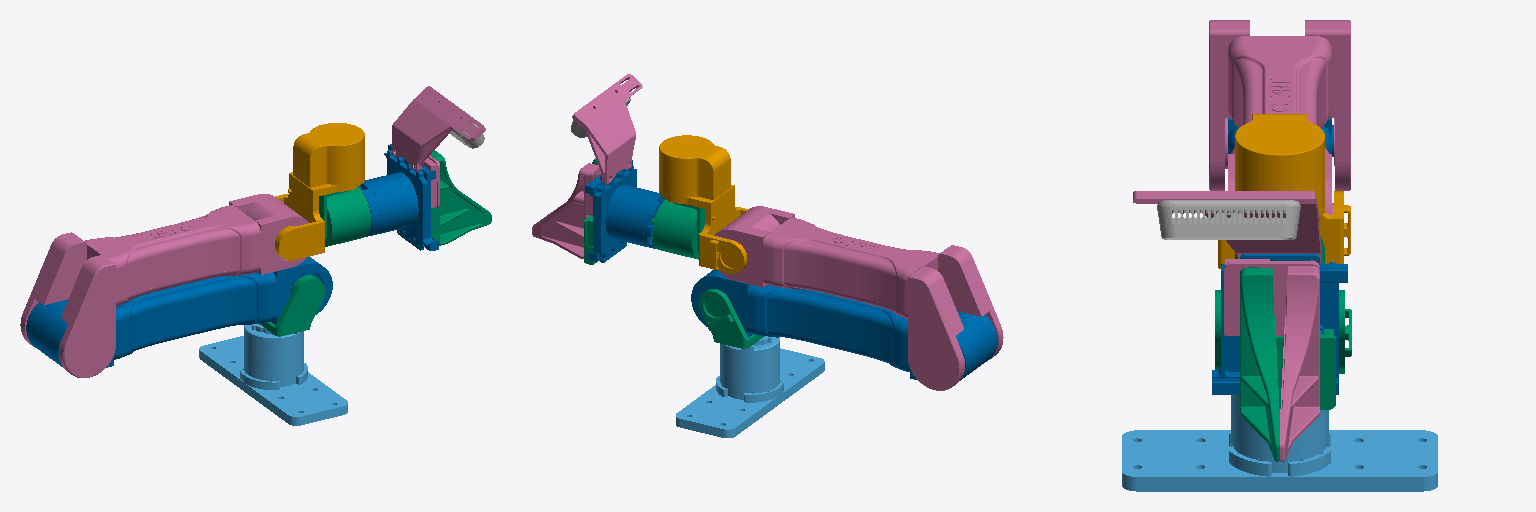
--- Facts derived from the render (not from the file) ---
Views: 3 orthographic renders of the robot side by side, from view 1: azimuth 30°, elevation 25°; view 2: azimuth 150°, elevation 25°; view 3: azimuth 270°, elevation 25°.
Robot: yam — 24 links, 23 joints (6 revolute, 2 prismatic, 15 fixed); root link world; default pose: every joint at zero.
Visible links, largest first — view 1: link_3, link_2, arm, link_4, link_6, camera_support, link_right_finger, link_5, link_1; view 2: link_3, link_2, arm, link_4, link_6, camera_support, link_left_finger, link_5, link_1; view 3: arm, link_3, link_left_finger, link_4, link_right_finger, d435, camera_support, link_6, link_1, link_2.
Boxes of the visible links, x1=… form: link_3: x1=20, y1=194, x2=308, y2=377; link_2: x1=26, y1=257, x2=332, y2=367; arm: x1=199, y1=324, x2=347, y2=425; link_4: x1=275, y1=123, x2=364, y2=260; link_6: x1=358, y1=144, x2=438, y2=250; camera_support: x1=392, y1=86, x2=485, y2=171; link_right_finger: x1=431, y1=150, x2=491, y2=245; link_5: x1=319, y1=187, x2=370, y2=246; link_1: x1=260, y1=275, x2=324, y2=336; link_3: x1=714, y1=206, x2=1003, y2=390; link_2: x1=691, y1=270, x2=997, y2=380; arm: x1=676, y1=336, x2=824, y2=437; link_4: x1=659, y1=135, x2=748, y2=273; link_6: x1=585, y1=160, x2=664, y2=262; camera_support: x1=572, y1=74, x2=642, y2=183; link_left_finger: x1=532, y1=163, x2=600, y2=258; link_5: x1=652, y1=199, x2=704, y2=259; link_1: x1=699, y1=289, x2=764, y2=348; arm: x1=1122, y1=395, x2=1437, y2=491; link_3: x1=1209, y1=20, x2=1350, y2=214; link_left_finger: x1=1224, y1=259, x2=1319, y2=461; link_4: x1=1218, y1=114, x2=1350, y2=268; link_right_finger: x1=1240, y1=267, x2=1335, y2=461; d435: x1=1157, y1=200, x2=1300, y2=239; camera_support: x1=1133, y1=191, x2=1320, y2=262; link_6: x1=1212, y1=254, x2=1347, y2=394; link_1: x1=1215, y1=290, x2=1351, y2=373; link_2: x1=1228, y1=118, x2=1333, y2=156.
Size in the robot's own frame: 0.5326 by 0.2 by 0.2846 metres.
19 mesh visuals loaded from 19 distinct referenced files (1 binary STL, 18 OBJ).

URDF robot description (yam):
<?xml version="1.0" ?>
<!-- =================================================================================== -->
<!-- |    This document was autogenerated by xacro from yam_cam.urdf.xacro             | -->
<!-- |    EDITING THIS FILE BY HAND IS NOT RECOMMENDED                                 | -->
<!-- =================================================================================== -->
<robot name="yam">
  <!-- World link -->
  <link name="world">
    <inertial>
      <origin rpy="0.0 0.0 0.0" xyz="0.0 0.0 0.0"/>
      <mass value="0.0"/>
      <inertia ixx="0.0" ixy="0" ixz="0" iyy="0.0" iyz="0" izz="0.0"/>
    </inertial>
  </link>
  <!-- Arm base link -->
  <link name="arm">
    <inertial>
      <origin rpy="0.0 0.0 0.0" xyz="0.0 0.0 0.026"/>
      <mass value="0.21895644158459424"/>
      <inertia ixx="0.00013879124248906134" ixy="0" ixz="0" iyy="0.00013879124248906134" iyz="0" izz="0.00010282878735692499"/>
    </inertial>
    <visual name="model2">
      <origin rpy="1.5701130102263443 0.005344186766801151 -3.1414365496107033" xyz="-2.0738360577213484e-05 2.041311002275178e-05 0.01154286287615687"/>
      <geometry>
        <mesh filename="package://yam_arm_description/meshes/converted_model2_808080ff.obj"/>
      </geometry>
    </visual>
    <collision name="model2_collision">
      <origin rpy="1.5701130102263443 0.005344186766801151 -3.1414365496107033" xyz="-2.0738360577213484e-05 2.041311002275178e-05 0.01154286287615687"/>
      <geometry>
        <mesh filename="package://yam_arm_description/meshes/converted_model2_808080ff.obj"/>
      </geometry>
    </collision>
  </link>
  <joint name="parent2arm_fixed" type="fixed">
    <parent link="world"/>
    <child link="arm"/>
    <origin rpy="0.0 0.0 0.0" xyz="0.0 0.0 0.0"/>
  </joint>
  <!-- Link 1 -->
  <link name="link_1">
    <inertial>
      <origin rpy="1.6743480392523338 -0.6015439689011491 1.5666873963753192" xyz="-0.00192861 -0.00795735 0.0208176"/>
      <mass value="0.12415"/>
      <inertia ixx="0.000180751" ixy="0" ixz="0" iyy="0.000145532" iyz="0" izz="5.89179e-05"/>
    </inertial>
    <visual name="model2__2">
      <origin rpy="1.5650454550240567 -0.6317582807873867 1.5710673633815686" xyz="0.0007117901440024366 -0.008267794027987337 0.022250179687008112"/>
      <geometry>
        <mesh filename="package://yam_arm_description/meshes/converted_model2__2_808080ff.obj"/>
      </geometry>
    </visual>
    <collision name="model2__2_collision">
      <origin rpy="1.5650454550240567 -0.6317582807873867 1.5710673633815686" xyz="0.0007117901440024366 -0.008267794027987337 0.022250179687008112"/>
      <geometry>
        <mesh filename="package://yam_arm_description/meshes/converted_model2__2_808080ff.obj"/>
      </geometry>
    </collision>
  </link>
  <link name="joint1_link">
    <inertial>
      <origin rpy="0.0 0.0 0.0" xyz="0.0 0.0 0.0"/>
      <mass value="0.001"/>
      <inertia ixx="1e-09" ixy="0" ixz="0" iyy="1e-09" iyz="0" izz="1e-09"/>
    </inertial>
  </link>
  <joint name="joint1" type="revolute">
    <parent link="arm"/>
    <child link="joint1_link"/>
    <origin rpy="0.0 0.0 1.5707963267948963" xyz="0.0 0.0 0.0631"/>
    <axis xyz="0.0 0.0 1.0"/>
    <limit effort="100" lower="-2.61799" upper="3.05433" velocity="100"/>
  </joint>
  <joint name="joint1_offset" type="fixed">
    <parent link="joint1_link"/>
    <child link="link_1"/>
    <origin rpy="0.0 0.0 0.0" xyz="-0.0 -0.0 -0.0"/>
  </joint>
  <!-- Link 2 -->
  <link name="link_2">
    <inertial>
      <origin rpy="1.5707963267948966 0.0 1.5707963267948966" xyz="0.132008 2.10599e-06 0.000293073"/>
      <mass value="1.24434"/>
      <inertia ixx="0.0121902" ixy="0" ixz="0" iyy="0.0121318" iyz="0" izz="0.000683304"/>
    </inertial>
    <visual name="model2__3">
      <origin rpy="0.0012886015838013758 0.0 1.5707963267948966" xyz="0.26007948449650414 2.5977632368834325e-07 0.00022869283697025413"/>
      <geometry>
        <mesh filename="package://yam_arm_description/meshes/converted_model2__3_808080ff.obj"/>
      </geometry>
    </visual>
    <collision name="model2__3_collision">
      <origin rpy="0.0012886015838013758 0.0 1.5707963267948966" xyz="0.26007948449650414 2.5977632368834325e-07 0.00022869283697025413"/>
      <geometry>
        <mesh filename="package://yam_arm_description/meshes/converted_model2__3_808080ff.obj"/>
      </geometry>
    </collision>
    <visual name="model2__4">
      <origin rpy="-0.0012886020855807743 0.0 1.5707963267948966" xyz="0.003920561027152974 2.5977629421192194e-07 0.00022869282878015162"/>
      <geometry>
        <mesh filename="package://yam_arm_description/meshes/converted_model2__4_808080ff.obj"/>
      </geometry>
    </visual>
    <collision name="model2__4_collision">
      <origin rpy="-0.0012886020855807743 0.0 1.5707963267948966" xyz="0.003920561027152974 2.5977629421192194e-07 0.00022869282878015162"/>
      <geometry>
        <mesh filename="package://yam_arm_description/meshes/converted_model2__4_808080ff.obj"/>
      </geometry>
    </collision>
    <visual name="model2__5">
      <origin rpy="1.5720341600620127 -1.5679213575591051 -1.5720413321413815" xyz="0.1320117461361114 -1.306943646950387e-05 9.079293692478702e-08"/>
      <geometry>
        <mesh filename="package://yam_arm_description/meshes/converted_model2__5_808080ff.obj"/>
      </geometry>
    </visual>
    <collision name="model2__5_collision">
      <origin rpy="1.5720341600620127 -1.5679213575591051 -1.5720413321413815" xyz="0.1320117461361114 -1.306943646950387e-05 9.079293692478702e-08"/>
      <geometry>
        <mesh filename="package://yam_arm_description/meshes/converted_model2__5_808080ff.obj"/>
      </geometry>
    </collision>
  </link>
  <link name="joint2_link">
    <inertial>
      <origin rpy="0.0 0.0 0.0" xyz="0.0 0.0 0.0"/>
      <mass value="0.001"/>
      <inertia ixx="1e-09" ixy="0" ixz="0" iyy="1e-09" iyz="0" izz="1e-09"/>
    </inertial>
  </link>
  <joint name="joint2" type="revolute">
    <parent link="link_1"/>
    <child link="joint2_link"/>
    <origin rpy="1.5707963267948966 0.0 1.5707963267948966" xyz="2.5e-05 -0.02 0.0409"/>
    <axis xyz="0.0 0.0 1.0"/>
    <limit effort="300" lower="-1.0e-03" upper="3.66519" velocity="100"/>
  </joint>
  <joint name="joint2_offset" type="fixed">
    <parent link="joint2_link"/>
    <child link="link_2"/>
    <origin rpy="0.0 0.0 0.0" xyz="-0.0 -0.0 -0.0"/>
  </joint>
  <!-- Link 3 -->
  <link name="link_3">
    <inertial>
      <origin rpy="1.5707963267948966 0.0 1.5707963267948966" xyz="-0.121816 -0.054846 -0.000111108"/>
      <mass value="0.853698"/>
      <inertia ixx="0.00699732" ixy="0" ixz="0" iyy="0.00696112" iyz="0" izz="0.000788244"/>
    </inertial>
    <visual name="model2__6">
      <origin rpy="3.0364915071378875 0.0 -1.5707963267948968" xyz="-0.24063976713274154 -0.059999782142154706 -0.003760273578300405"/>
      <geometry>
        <mesh filename="package://yam_arm_description/meshes/converted_model2__6_808080ff.obj"/>
      </geometry>
    </visual>
    <collision name="model2__6_collision">
      <origin rpy="3.0364915071378875 0.0 -1.5707963267948968" xyz="-0.24063976713274154 -0.059999782142154706 -0.003760273578300405"/>
      <geometry>
        <mesh filename="package://yam_arm_description/meshes/converted_model2__6_808080ff.obj"/>
      </geometry>
    </collision>
    <visual name="model2__7">
      <origin rpy="-2.87879006743723 1.4720957652931421 1.6013719605643306" xyz="-0.007710009148021196 -0.03486048010433765 0.0347071645682882"/>
      <geometry>
        <mesh filename="package://yam_arm_description/meshes/converted_model2__7_808080ff.obj"/>
      </geometry>
    </visual>
    <collision name="model2__7_collision">
      <origin rpy="-2.87879006743723 1.4720957652931421 1.6013719605643306" xyz="-0.007710009148021196 -0.03486048010433765 0.0347071645682882"/>
      <geometry>
        <mesh filename="package://yam_arm_description/meshes/converted_model2__7_808080ff.obj"/>
      </geometry>
    </collision>
    <visual name="model2__8">
      <origin rpy="1.5707945314613085 0.0026832997041226214 -1.570809065297576" xyz="-0.1206720859561709 -0.06001334031535149 5.408345552423209e-07"/>
      <geometry>
        <mesh filename="package://yam_arm_description/meshes/converted_model2__8_808080ff.obj"/>
      </geometry>
    </visual>
    <collision name="model2__8_collision">
      <origin rpy="1.5707945314613085 0.0026832997041226214 -1.570809065297576" xyz="-0.1206720859561709 -0.06001334031535149 5.408345552423209e-07"/>
      <geometry>
        <mesh filename="package://yam_arm_description/meshes/converted_model2__8_808080ff.obj"/>
      </geometry>
    </collision>
    <visual name="model2__9">
      <origin rpy="0.28836143122615043 1.443690062944695 -1.515041718980295" xyz="-0.008240431625057998 -0.03737256683266851 -0.033699619180835645"/>
      <geometry>
        <mesh filename="package://yam_arm_description/meshes/converted_model2__9_808080ff.obj"/>
      </geometry>
    </visual>
    <collision name="model2__9_collision">
      <origin rpy="0.28836143122615043 1.443690062944695 -1.515041718980295" xyz="-0.008240431625057998 -0.03737256683266851 -0.033699619180835645"/>
      <geometry>
        <mesh filename="package://yam_arm_description/meshes/converted_model2__9_808080ff.obj"/>
      </geometry>
    </collision>
  </link>
  <link name="joint3_link">
    <inertial>
      <origin rpy="0.0 0.0 0.0" xyz="0.0 0.0 0.0"/>
      <mass value="0.001"/>
      <inertia ixx="1e-09" ixy="0" ixz="0" iyy="1e-09" iyz="0" izz="1e-09"/>
    </inertial>
  </link>
  <joint name="joint3" type="revolute">
    <parent link="link_2"/>
    <child link="joint3_link"/>
    <origin rpy="3.141592653589793 0.0 0.0" xyz="0.264 0.0 0.0"/>
    <axis xyz="0.0 0.0 1.0"/>
    <limit effort="300" lower="-1.0e-03" upper="3.66519" velocity="100"/>
  </joint>
  <joint name="joint3_offset" type="fixed">
    <parent link="joint3_link"/>
    <child link="link_3"/>
    <origin rpy="0.0 0.0 0.0" xyz="-0.0 -0.0 -0.0"/>
  </joint>
  <!-- Link 4 -->
  <link name="link_4">
    <inertial>
      <origin rpy="1.5707963267948966 0.0 -0.6801532411309218" xyz="-0.0769778 -0.0527104 0.000154878"/>
      <mass value="0.463511"/>
      <inertia ixx="0.000791532" ixy="0" ixz="0" iyy="0.000744733" iyz="0" izz="0.000282116"/>
    </inertial>
    <visual name="model2__10">
      <origin rpy="1.5394854457020648 0.021662003917252814 -0.7117475435376935" xyz="-0.046776068687813616 -0.038270471745625256 -0.0008915243508352188"/>
      <geometry>
        <mesh filename="package://yam_arm_description/meshes/converted_model2__10_808080ff.obj"/>
      </geometry>
    </visual>
    <collision name="model2__10_collision">
      <origin rpy="1.5394854457020648 0.021662003917252814 -0.7117475435376935" xyz="-0.046776068687813616 -0.038270471745625256 -0.0008915243508352188"/>
      <geometry>
        <mesh filename="package://yam_arm_description/meshes/converted_model2__10_808080ff.obj"/>
      </geometry>
    </collision>
  </link>
  <link name="joint4_link">
    <inertial>
      <origin rpy="0.0 0.0 0.0" xyz="0.0 0.0 0.0"/>
      <mass value="0.001"/>
      <inertia ixx="1e-09" ixy="0" ixz="0" iyy="1e-09" iyz="0" izz="1e-09"/>
    </inertial>
  </link>
  <joint name="joint4" type="revolute">
    <parent link="link_3"/>
    <child link="joint4_link"/>
    <origin rpy="0.0 0.0 0.0" xyz="-0.245 -0.06 0.0"/>
    <axis xyz="0.0 0.0 1.0"/>
    <limit effort="100" lower="-1.5708" upper="1.5708" velocity="100"/>
  </joint>
  <joint name="joint4_offset" type="fixed">
    <parent link="joint4_link"/>
    <child link="link_4"/>
    <origin rpy="0.0 0.0 0.0" xyz="-0.0 -0.0 -0.0"/>
  </joint>
  <!-- Link 5 -->
  <link name="link_5">
    <inertial>
      <origin rpy="0.0 0.0 0.0" xyz="3.64861e-05 0.00025665 0.0353526"/>
      <mass value="0.350962"/>
      <inertia ixx="0.000197802" ixy="0" ixz="0" iyy="0.0001775" iyz="0" izz="0.000147402"/>
    </inertial>
    <visual name="model2__11">
      <origin rpy="2.67318045036048 0.0016544870659682687 -0.01152938218496731" xyz="5.815639855540116e-05 -0.0005553836621680353 0.03206235288381598"/>
      <geometry>
        <mesh filename="package://yam_arm_description/meshes/converted_model2__11_808080ff.obj"/>
      </geometry>
    </visual>
    <collision name="model2__11_collision">
      <origin rpy="2.67318045036048 0.0016544870659682687 -0.01152938218496731" xyz="5.815639855540116e-05 -0.0005553836621680353 0.03206235288381598"/>
      <geometry>
        <mesh filename="package://yam_arm_description/meshes/converted_model2__11_808080ff.obj"/>
      </geometry>
    </collision>
  </link>
  <link name="joint5_link">
    <inertial>
      <origin rpy="0.0 0.0 0.0" xyz="0.0 0.0 0.0"/>
      <mass value="0.001"/>
      <inertia ixx="1e-09" ixy="0" ixz="0" iyy="1e-09" iyz="0" izz="1e-09"/>
    </inertial>
  </link>
  <joint name="joint5" type="revolute">
    <parent link="link_4"/>
    <child link="joint5_link"/>
    <origin rpy="-1.5707963267948966 1.5707963267948966 0.0" xyz="-0.074 -0.0395 2.5e-05"/>
    <axis xyz="0.0 0.0 1.0"/>
    <limit effort="100" lower="-1.5708" upper="1.5708" velocity="100"/>
  </joint>
  <joint name="joint5_offset" type="fixed">
    <parent link="joint5_link"/>
    <child link="link_5"/>
    <origin rpy="0.0 0.0 0.0" xyz="-0.0 -0.0 -0.0"/>
  </joint>
  <!-- Link 6 -->
  <link name="link_6">
    <inertial>
      <origin rpy="1.5707963267948963 0.0 0.0" xyz="-0.000217767 7.37059e-05 0.0270545"/>
      <mass value="0.367476"/>
      <inertia ixx="0.000265958" ixy="0" ixz="0" iyy="0.000242686" iyz="0" izz="0.000227409"/>
    </inertial>
    <visual name="model2__12">
      <origin rpy="-1.7453668887584697 1.565490971850807 -1.9699125405676954" xyz="8.788302043375991e-05 0.0001190912220788709 0.05116721790419726"/>
      <geometry>
        <mesh filename="package://yam_arm_description/meshes/converted_model2__12_808080ff.obj"/>
      </geometry>
    </visual>
    <collision name="model2__12_collision">
      <origin rpy="-1.7453668887584697 1.565490971850807 -1.9699125405676954" xyz="8.788302043375991e-05 0.0001190912220788709 0.05116721790419726"/>
      <geometry>
        <mesh filename="package://yam_arm_description/meshes/converted_model2__12_808080ff.obj"/>
      </geometry>
    </collision>
    <visual name="model2__13">
      <origin rpy="-1.5799559470247646 0.8170286688385331 -0.14641337505452354" xyz="-0.00017825474995774047 1.6195054943213272e-05 0.03422382038141725"/>
      <geometry>
        <mesh filename="package://yam_arm_description/meshes/converted_model2__13_808080ff.obj"/>
      </geometry>
    </visual>
    <collision name="model2__13_collision">
      <origin rpy="-1.5799559470247646 0.8170286688385331 -0.14641337505452354" xyz="-0.00017825474995774047 1.6195054943213272e-05 0.03422382038141725"/>
      <geometry>
        <mesh filename="package://yam_arm_description/meshes/converted_model2__13_808080ff.obj"/>
      </geometry>
    </collision>
  </link>
  <link name="joint6_link">
    <inertial>
      <origin rpy="0.0 0.0 0.0" xyz="0.0 0.0 0.0"/>
      <mass value="0.001"/>
      <inertia ixx="1e-09" ixy="0" ixz="0" iyy="1e-09" iyz="0" izz="1e-09"/>
    </inertial>
  </link>
  <joint name="joint6" type="revolute">
    <parent link="link_5"/>
    <child link="joint6_link"/>
    <origin rpy="-1.5707963267948963 0.0 0.0" xyz="0.0 0.0353 0.0395"/>
    <axis xyz="0.0 0.0 1.0"/>
    <limit effort="100" lower="-2.0944" upper="2.0944" velocity="100"/>
  </joint>
  <joint name="joint6_offset" type="fixed">
    <parent link="joint6_link"/>
    <child link="link_6"/>
    <origin rpy="0.0 0.0 0.0" xyz="-0.0 -0.0 -0.0"/>
  </joint>
  <!-- Gripper: Left Finger -->
  <link name="link_left_finger">
    <inertial>
      <origin rpy="1.401155911297378 -0.506095322833723 -0.42940521230428" xyz="-0.0192995 -0.0365902 0.039774"/>
      <mass value="0.118"/>
      <inertia ixx="0.000159084" ixy="0" ixz="0" iyy="0.000154909" iyz="0" izz="4.63655e-05"/>
    </inertial>
    <visual name="model2__14">
      <origin rpy="1.2436149090470108 -1.3351755324428634 3.1192068678405445" xyz="-0.02621919095860112 -0.050961301789609365 0.04847966761952425"/>
      <geometry>
        <mesh filename="package://yam_arm_description/meshes/converted_model2__14_808080ff.obj"/>
      </geometry>
    </visual>
    <collision name="model2__14_collision">
      <origin rpy="1.2436149090470108 -1.3351755324428634 3.1192068678405445" xyz="-0.02621919095860112 -0.050961301789609365 0.04847966761952425"/>
      <geometry>
        <mesh filename="package://yam_arm_description/meshes/converted_model2__14_808080ff.obj"/>
      </geometry>
    </collision>
    <visual name="model2__15">
      <origin rpy="-0.08499655397451025 -0.08210615684708134 0.012014286826329146" xyz="-0.0018267628293356375 -0.014013453565219658 0.02860778296204746"/>
      <geometry>
        <mesh filename="package://yam_arm_description/meshes/converted_model2__15_808080ff.obj"/>
      </geometry>
    </visual>
    <collision name="model2__15_collision">
      <origin rpy="-0.08499655397451025 -0.08210615684708134 0.012014286826329146" xyz="-0.0018267628293356375 -0.014013453565219658 0.02860778296204746"/>
      <geometry>
        <mesh filename="package://yam_arm_description/meshes/converted_model2__15_808080ff.obj"/>
      </geometry>
    </collision>
  </link>
  <link name="left_finger_link">
    <inertial>
      <origin rpy="0.0 0.0 0.0" xyz="0.0 0.0 0.0"/>
      <mass value="0.001"/>
      <inertia ixx="1e-09" ixy="0" ixz="0" iyy="1e-09" iyz="0" izz="1e-09"/>
    </inertial>
  </link>
  <joint name="left_finger" type="prismatic">
    <parent link="link_6"/>
    <child link="left_finger_link"/>
    <origin rpy="-0.0 1.5707963267948966 0.0" xyz="-0.037 0.0392 0.0605"/>
    <axis xyz="0.0 0.0 1.0"/>
    <limit effort="100" lower="-0.00205" upper="0.037524" velocity="100"/>
  </joint>
  <joint name="left_finger_offset" type="fixed">
    <parent link="left_finger_link"/>
    <child link="link_left_finger"/>
    <origin rpy="0.0 0.0 0.0" xyz="-0.0 -0.0 -0.0"/>
  </joint>
  <link name="lf_rot">
    <inertial>
      <origin rpy="2.03719733945046 0.34503462898803194 1.5781769326774222" xyz="-0.008421052631578949 -0.015789473684210527 0.020421052631578947"/>
      <mass value="0.039793506945470715"/>
      <inertia ixx="2.3910376870188726e-05" ixy="0" ixz="0" iyy="2.0730203360923295e-05" iyz="0" izz="5.660176249101842e-06"/>
    </inertial>
  </link>
  <joint name="link_left_finger2lf_rot_fixed" type="fixed">
    <parent link="link_left_finger"/>
    <child link="lf_rot"/>
    <origin rpy="-1.5707963267948966 0.0 1.5707963267948966" xyz="0.0 -0.0392 0.037"/>
  </joint>
  <link name="lf_down">
    <inertial>
      <origin rpy="0.25192924677866 0.2603701692584921 1.7911531458129852" xyz="0.004865675005941529 -0.012786258560154471 0.029346031921652322"/>
      <mass value="0.02077574023677297"/>
      <inertia ixx="1.5767067212852193e-05" ixy="0" ixz="0" iyy="1.3071054583294231e-05" iyz="0" izz="3.94367471938606e-06"/>
    </inertial>
  </link>
  <joint name="lf_rot2lf_down_fixed" type="fixed">
    <parent link="lf_rot"/>
    <child link="lf_down"/>
    <origin rpy="0.0 0.0 0.0" xyz="-0.044 0.0 0.0"/>
  </joint>
  <!-- Gripper: Right Finger -->
  <link name="link_right_finger">
    <inertial>
      <origin rpy="-1.401155911297378 0.506095322833723 -0.42940521230428" xyz="-0.0192995 0.0365902 -0.039774"/>
      <mass value="0.118"/>
      <inertia ixx="0.000159084" ixy="0" ixz="0" iyy="0.000154909" iyz="0" izz="4.63655e-05"/>
    </inertial>
    <visual name="model2__16">
      <origin rpy="-0.08499624911644794 0.08210615585822456 -0.012014239544932078" xyz="-0.001826763203738313 0.014013021507929144 -0.02860778467768097"/>
      <geometry>
        <mesh filename="package://yam_arm_description/meshes/converted_model2__16_808080ff.obj"/>
      </geometry>
    </visual>
    <collision name="model2__16_collision">
      <origin rpy="-0.08499624911644794 0.08210615585822456 -0.012014239544932078" xyz="-0.001826763203738313 0.014013021507929144 -0.02860778467768097"/>
      <geometry>
        <mesh filename="package://yam_arm_description/meshes/converted_model2__16_808080ff.obj"/>
      </geometry>
    </collision>
    <visual name="model2__17">
      <origin rpy="-1.8906094630983066 -1.338715519977303 -0.013733131456833558" xyz="-0.026152342123741346 0.026813733867866105 -0.04844908896546901"/>
      <geometry>
        <mesh filename="package://yam_arm_description/meshes/converted_model2__17_808080ff.obj"/>
      </geometry>
    </visual>
    <collision name="model2__17_collision">
      <origin rpy="-1.8906094630983066 -1.338715519977303 -0.013733131456833558" xyz="-0.026152342123741346 0.026813733867866105 -0.04844908896546901"/>
      <geometry>
        <mesh filename="package://yam_arm_description/meshes/converted_model2__17_808080ff.obj"/>
      </geometry>
    </collision>
  </link>
  <link name="right_finger_link">
    <inertial>
      <origin rpy="0.0 0.0 0.0" xyz="0.0 0.0 0.0"/>
      <mass value="0.001"/>
      <inertia ixx="1e-09" ixy="0" ixz="0" iyy="1e-09" iyz="0" izz="1e-09"/>
    </inertial>
  </link>
  <joint name="right_finger" type="prismatic">
    <parent link="link_6"/>
    <child link="right_finger_link"/>
    <origin rpy="-0.0 1.5707963267948966 0.0" xyz="0.037 -0.0392 0.0605"/>
    <axis xyz="0.0 0.0 1.0"/>
    <limit effort="100" lower="-0.037524" upper="0.00205" velocity="100"/>
    <mimic joint="left_finger" multiplier="-1" offset="0"/>
  </joint>
  <joint name="right_finger_offset" type="fixed">
    <parent link="right_finger_link"/>
    <child link="link_right_finger"/>
    <origin rpy="0.0 0.0 0.0" xyz="-0.0 -0.0 -0.0"/>
  </joint>
  <link name="rf_rot">
    <inertial>
      <origin rpy="1.1043953141393332 0.34503462898803194 1.563415720912371" xyz="0.008421052631578949 -0.015789473684210527 0.020421052631578947"/>
      <mass value="0.039793506945470715"/>
      <inertia ixx="2.3910376870188726e-05" ixy="0" ixz="0" iyy="2.0730203360923295e-05" iyz="0" izz="5.660176249101842e-06"/>
    </inertial>
  </link>
  <joint name="link_right_finger2rf_rot_fixed" type="fixed">
    <parent link="link_right_finger"/>
    <child link="rf_rot"/>
    <origin rpy="1.5707963267948966 0.0 -1.5707963267948966" xyz="0.0 0.0392 -0.037"/>
  </joint>
  <link name="rf_down">
    <inertial>
      <origin rpy="-0.25192924677866 0.2603701692584921 1.3504395077768079" xyz="-0.004865675005941529 -0.012786258560154471 0.029346031921652322"/>
      <mass value="0.02077574023677297"/>
      <inertia ixx="1.5767067212852193e-05" ixy="0" ixz="0" iyy="1.3071054583294231e-05" iyz="0" izz="3.94367471938606e-06"/>
    </inertial>
  </link>
  <joint name="rf_rot2rf_down_fixed" type="fixed">
    <parent link="rf_rot"/>
    <child link="rf_down"/>
    <origin rpy="0.0 0.0 0.0" xyz="0.044 0.0 0.0"/>
  </joint>
  <link name="camera_support">
    <inertial>
      <origin rpy="0.0 0.0 0.0" xyz="0.0 0.0 0.0"/>
      <mass value="0.1"/>
      <inertia ixx="0.0001" ixy="0" ixz="0" iyy="0.0001" iyz="0" izz="0.0001"/>
    </inertial>
    <visual name="camera_support_visual">
      <origin rpy="0.0 0.0 0.0" xyz="0.0 0.0 0.0"/>
      <geometry>
        <mesh filename="package://yam_arm_description/meshes/camera_support.stl"/>
      </geometry>
    </visual>
    <collision name="camera_support_collision">
      <origin rpy="0.0 0.0 0.0" xyz="0.0 0.0 0.0"/>
      <geometry>
        <mesh filename="package://yam_arm_description/meshes/camera_support.stl"/>
      </geometry>
    </collision>
  </link>
  <joint name="link_6_to_camera_support_fixed" type="fixed">
    <parent link="link_6"/>
    <child link="camera_support"/>
    <origin rpy="1.5708 1.5708 3.14159" xyz="-0.02618 0.04089 0.05052"/>
  </joint>
  <link name="d435">
    <inertial>
      <origin rpy="0.0 0.0 0.0" xyz="0.0 0.0 0.0"/>
      <mass value="0.072"/>
      <inertia ixx="0.0001" ixy="0" ixz="0" iyy="0.0001" iyz="0" izz="0.0001"/>
    </inertial>
    <visual name="d435_visual">
      <origin rpy="0.0 0.0 0.0" xyz="0.0 0.0 0.0"/>
      <geometry>
        <mesh filename="package://yam_arm_description/meshes/D435.obj"/>
      </geometry>
    </visual>
    <collision name="d435_collision">
      <origin rpy="0.0 0.0 0.0" xyz="0.0 0.0 0.0"/>
      <geometry>
        <mesh filename="package://yam_arm_description/meshes/D435.obj"/>
      </geometry>
    </collision>
  </link>
  <joint name="camera_support2d435_fixed" type="fixed">
    <parent link="camera_support"/>
    <child link="d435"/>
    <origin rpy="2.6180 0.0 -1.5708" xyz="-0.03014 0.00604 0.06023"/>
  </joint>
</robot>
